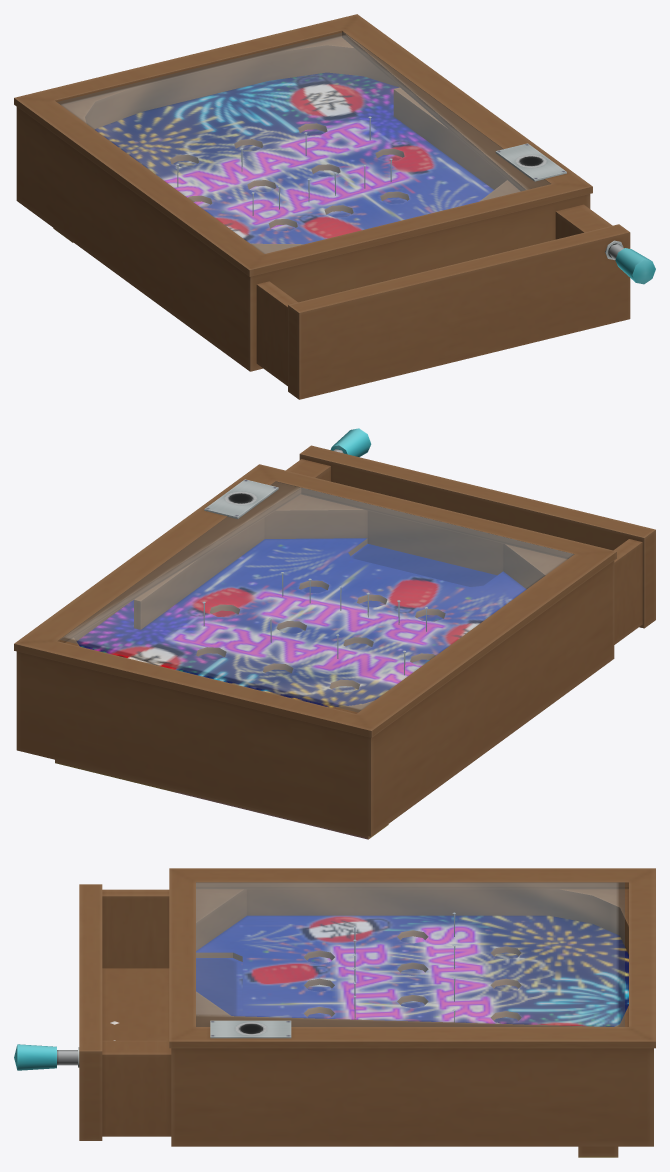
Rendered from jsf_SmartBall.fbx.
3 views of the same model, one above another, from view 1: azimuth 30°, elevation 25°; view 2: azimuth 150°, elevation 25°; view 3: azimuth 270°, elevation 25° (orthographic). The views are drawn at different scales.
Parts seen in each view (by area): view 1: Body, GlassPlate, Board, Lever; view 2: Body, GlassPlate, Board, SquaredTimber, Lever; view 3: Body, GlassPlate, Board, Lever, SquaredTimber.
Part boxes in pixels (x1,y1,x2,y2): Body: (14,14,630,399); GlassPlate: (57,32,550,253); Board: (172,129,406,231); Lever: (608,244,655,284); Body: (14,445,655,836); GlassPlate: (60,481,573,712); Board: (199,544,496,692); SquaredTimber: (55,760,388,839); Lever: (330,428,371,457); Body: (78,868,655,1146); GlassPlate: (196,882,624,1026); Board: (196,936,518,1023); Lever: (14,1044,77,1070); SquaredTimber: (578,1146,618,1157).
Size of the model in its own units: 53.57 by 18.52 by 83.96.
